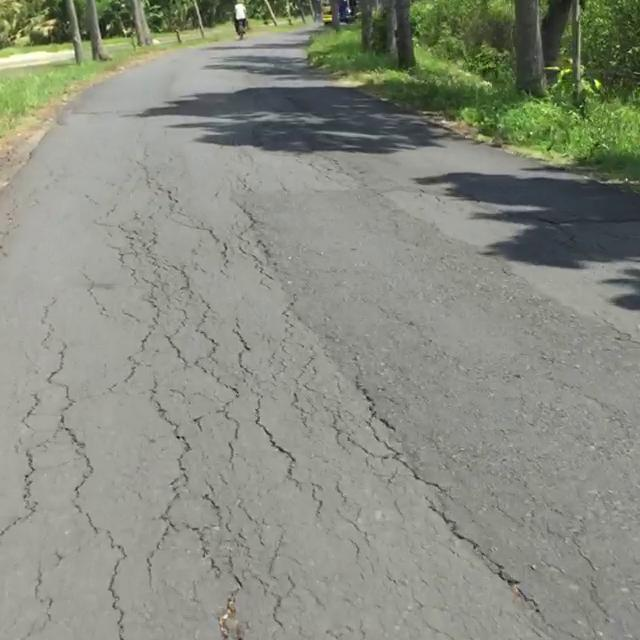retak_kulit_buaya: (0, 161, 338, 640), (281, 390, 530, 597)
